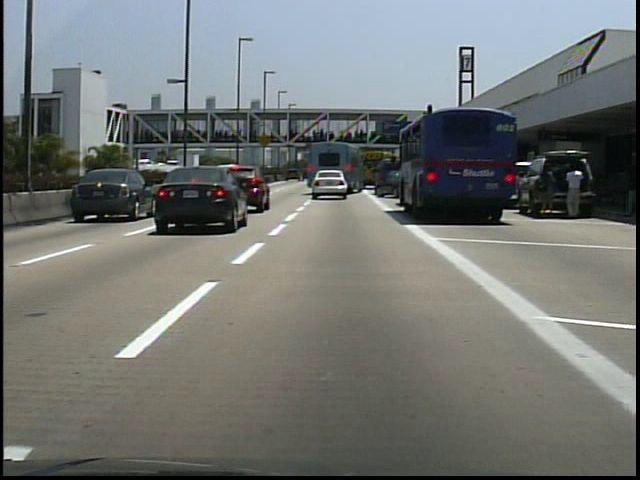person: (559, 162, 584, 224), (531, 161, 556, 222)
